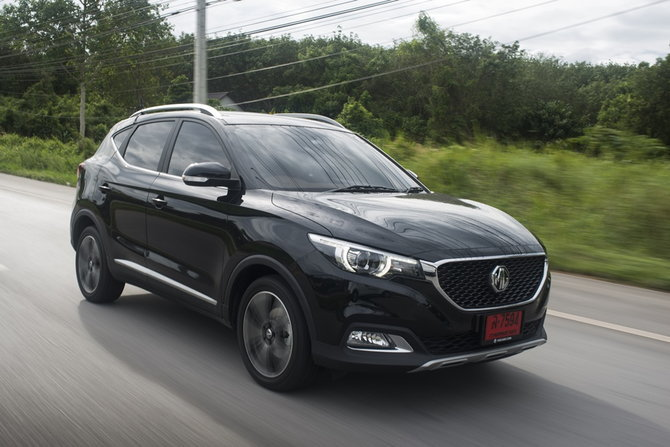pickup: (69, 102, 552, 392)
